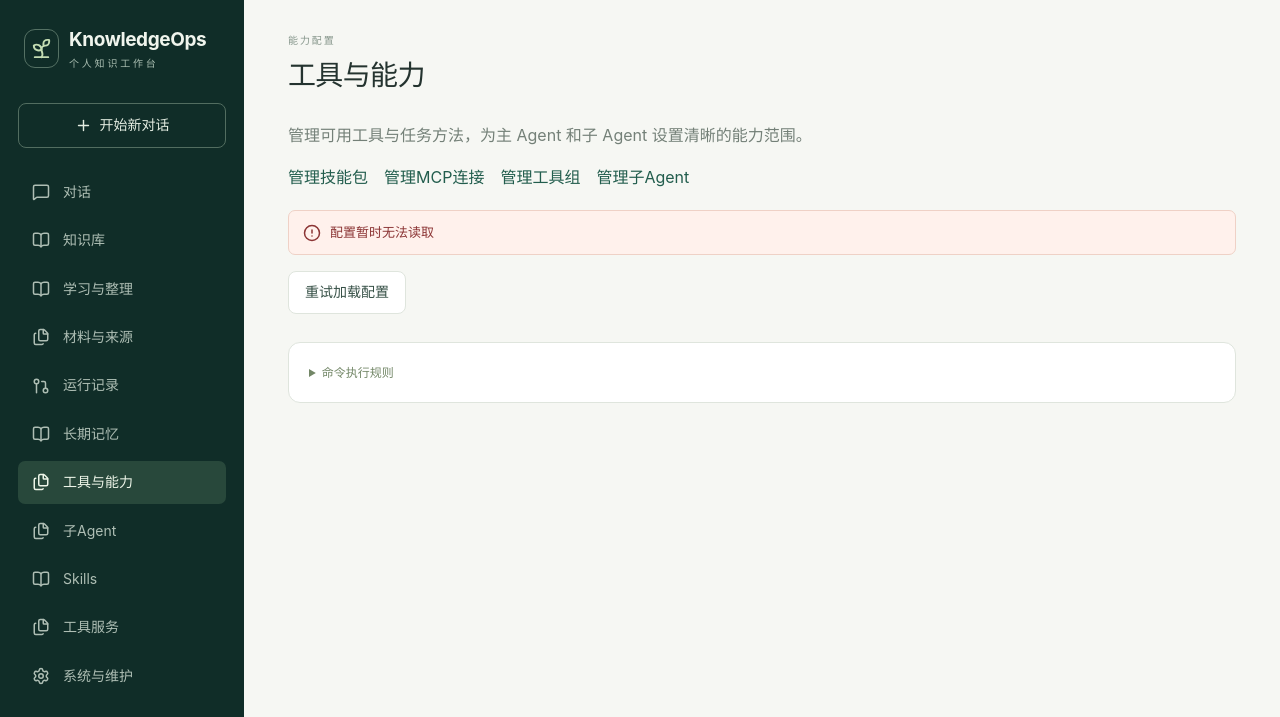
Test case: does not offer a writable fallback when the policy cannot be loaded and retries explicitly
Expected: the message reads "配置暂时无法读取", [330,224,434,240]
Click the button "重试加载配置": (347,292) [288,271,406,314]
(page scrolled)
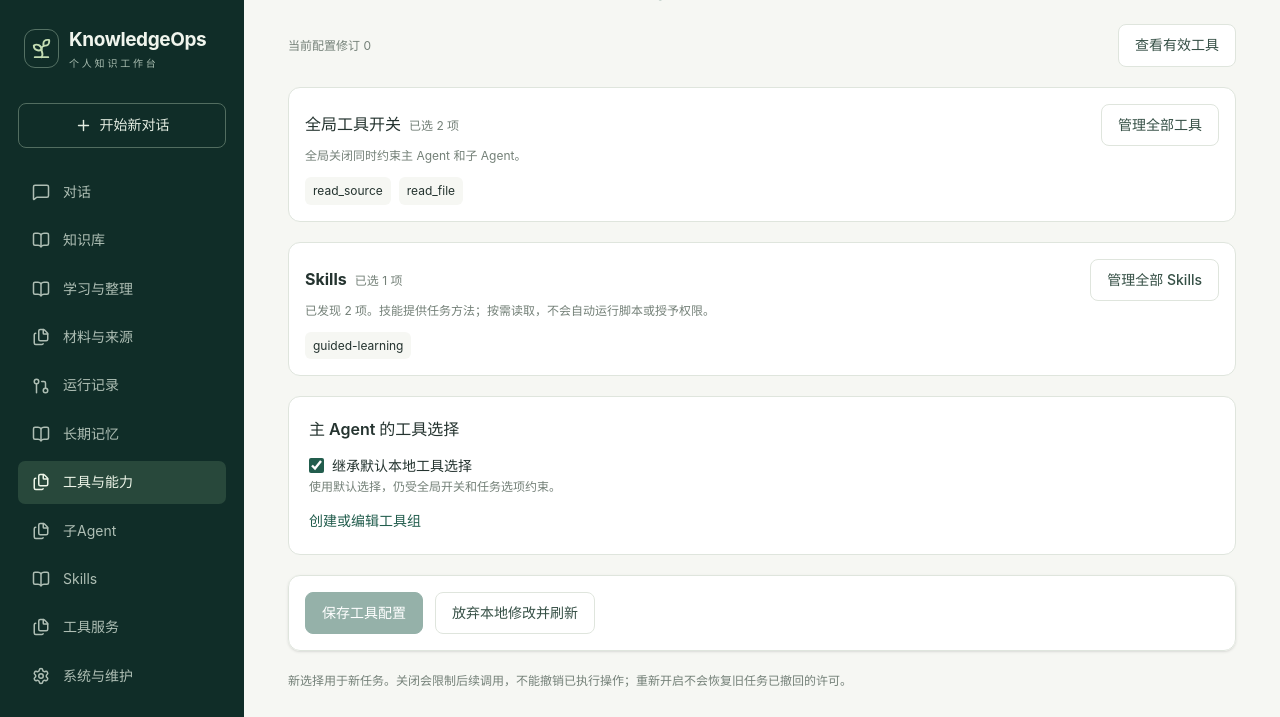
Expected: the form named "工具策略配置" is shown
